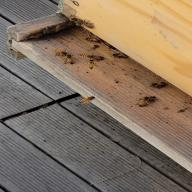Bee: (135, 92, 158, 116), (75, 92, 102, 105)
